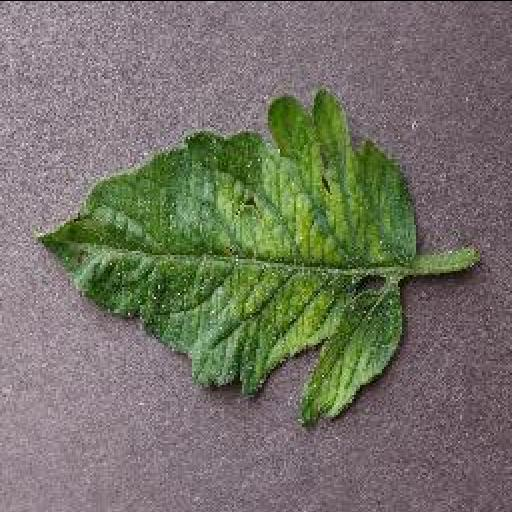disease_tomato: (32, 86, 416, 432)
